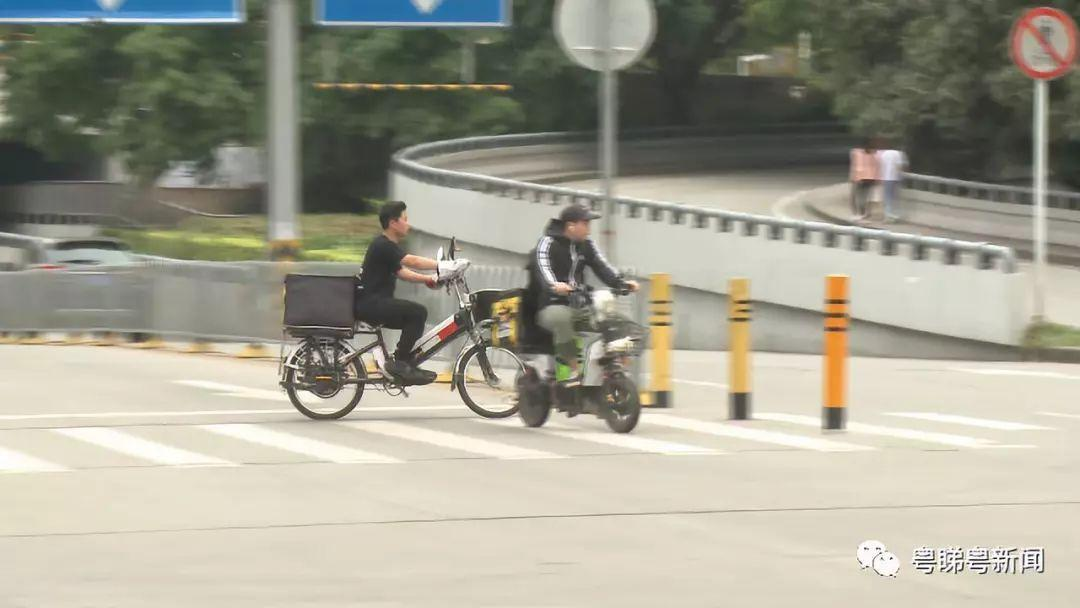target: (266, 196, 514, 421), (516, 200, 644, 437)
